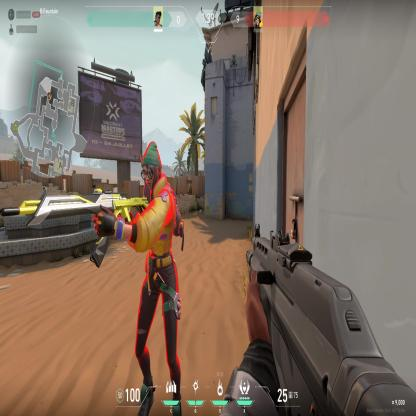enemy: (93, 139, 185, 378)
